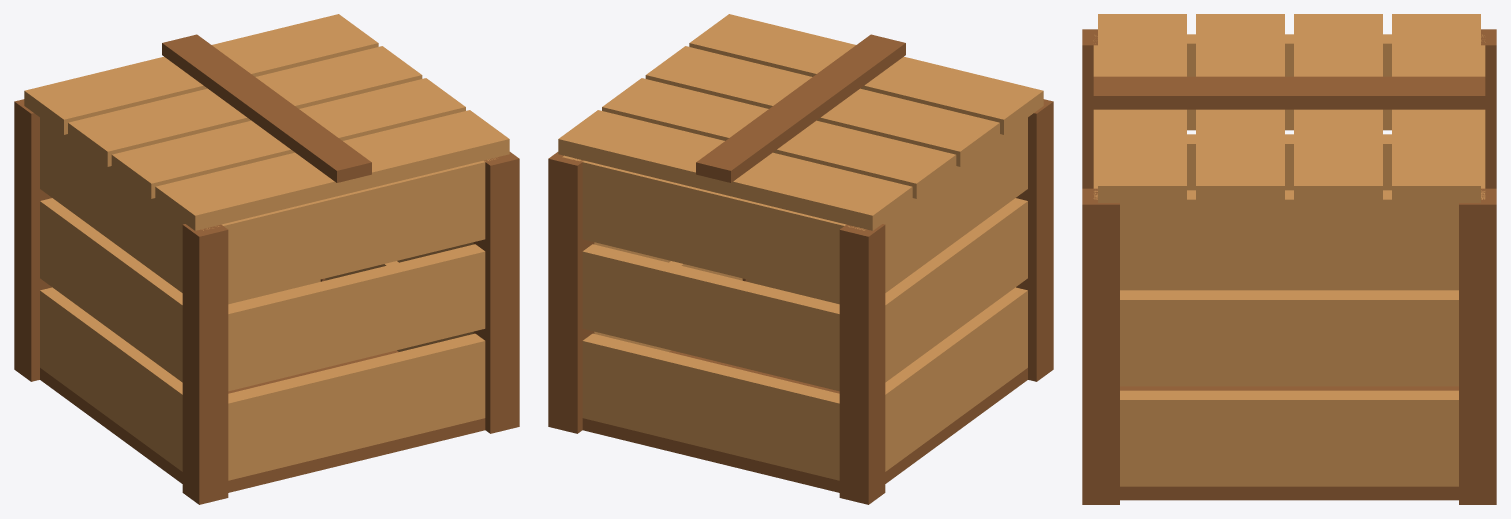
File: Crate.glb
3 views of the same model, side by side, from view 1: azimuth 30°, elevation 25°; view 2: azimuth 150°, elevation 25°; view 3: azimuth 270°, elevation 25° (orthographic). The views are drawn at different scales.
Parts seen in each view (by area): view 1: Crate_PlankF1, Crate_PlankF0, Crate_PlankF2, Lid_Plank0, Crate_Corner-1-1, Crate_PlankL1, Crate_PlankL0, Lid_Plank1, Lid_Plank2, Lid_Plank3, Crate_PlankL2, Crate_Corner1-1 (+3 smaller); view 2: Crate_PlankB1, Crate_PlankB0, Crate_PlankB2, Lid_Plank3, Crate_Corner-11, Crate_PlankL1, Crate_PlankL0, Lid_Plank2, Lid_Plank0, Lid_Plank1, Crate_PlankL2, Crate_Corner11 (+3 smaller); view 3: Crate_PlankR0, Crate_PlankR1, Crate_PlankR2, Lid_Plank0, Lid_Plank1, Lid_Plank2, Lid_Plank3, Lid_Brace, Crate_Corner1-1, Crate_Corner11, Crate_Bottom, Crate_Corner-1-1 (+6 smaller).
Part boxes in pixels (bbox=[...]): Crate_PlankF1: bbox=[228, 244, 485, 391]; Crate_PlankF0: bbox=[228, 333, 485, 480]; Crate_PlankF2: bbox=[203, 159, 490, 301]; Lid_Plank0: bbox=[155, 110, 509, 230]; Crate_Corner-1-1: bbox=[182, 224, 228, 504]; Crate_PlankL1: bbox=[40, 198, 182, 382]; Crate_PlankL0: bbox=[40, 287, 182, 471]; Lid_Plank1: bbox=[111, 78, 465, 198]; Lid_Plank2: bbox=[68, 46, 422, 166]; Lid_Plank3: bbox=[24, 14, 378, 134]; Crate_PlankL2: bbox=[40, 117, 218, 292]; Crate_Corner1-1: bbox=[473, 152, 519, 433]; Crate_PlankB1: bbox=[582, 244, 839, 391]; Crate_PlankB0: bbox=[582, 333, 839, 480]; Crate_PlankB2: bbox=[563, 155, 864, 301]; Lid_Plank3: bbox=[558, 110, 912, 230]; Crate_Corner-11: bbox=[839, 224, 885, 504]; Crate_PlankL1: bbox=[885, 198, 1027, 382]; Crate_PlankL0: bbox=[885, 287, 1027, 471]; Lid_Plank2: bbox=[602, 78, 956, 198]; Lid_Plank0: bbox=[689, 14, 1043, 134]; Lid_Plank1: bbox=[645, 46, 999, 166]; Crate_PlankL2: bbox=[848, 117, 1027, 292]; Crate_Corner11: bbox=[548, 152, 594, 433]; Crate_PlankR0: bbox=[1120, 390, 1458, 486]; Crate_PlankR1: bbox=[1120, 290, 1458, 386]; Crate_PlankR2: bbox=[1093, 190, 1485, 286]; Lid_Plank0: bbox=[1098, 14, 1186, 202]; Lid_Plank1: bbox=[1196, 14, 1284, 202]; Lid_Plank2: bbox=[1294, 14, 1382, 202]; Lid_Plank3: bbox=[1392, 14, 1480, 202]; Lid_Brace: bbox=[1093, 76, 1485, 109]; Crate_Corner1-1: bbox=[1082, 188, 1119, 504]; Crate_Corner11: bbox=[1459, 188, 1496, 504]; Crate_Bottom: bbox=[1120, 386, 1458, 500]; Crate_Corner-1-1: bbox=[1082, 29, 1097, 188].
Bounding box in the file's own units: 0.55 × 0.485 × 0.55.
